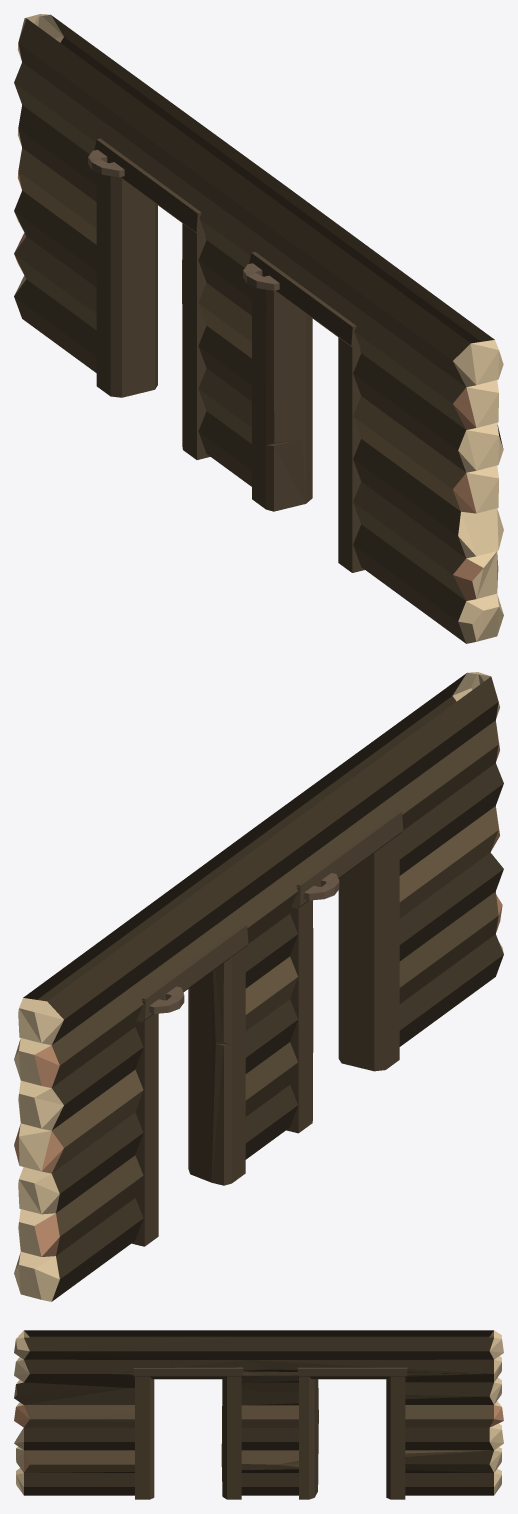
The model's file is EA03_Village_Hut_Wall_Front_02d.glb.
3 renders of one model, top to bottom at view 1: azimuth 30°, elevation 25°; view 2: azimuth 150°, elevation 25°; view 3: azimuth 270°, elevation 25°, orthographic. The views are drawn at different scales.
Parts seen in each view (by area): view 1: EA03_Village_Hut_Wall_Front_02d; view 2: EA03_Village_Hut_Wall_Front_02d; view 3: EA03_Village_Hut_Wall_Front_02d.
Part boxes in pixels (bbox=[...]): EA03_Village_Hut_Wall_Front_02d: bbox=[14, 14, 503, 643]; EA03_Village_Hut_Wall_Front_02d: bbox=[14, 672, 503, 1301]; EA03_Village_Hut_Wall_Front_02d: bbox=[14, 1330, 503, 1499].
Size of the model in its own units: 0.7339 by 3.13 by 8.65.
Materials: 1 (1 with a texture image).
